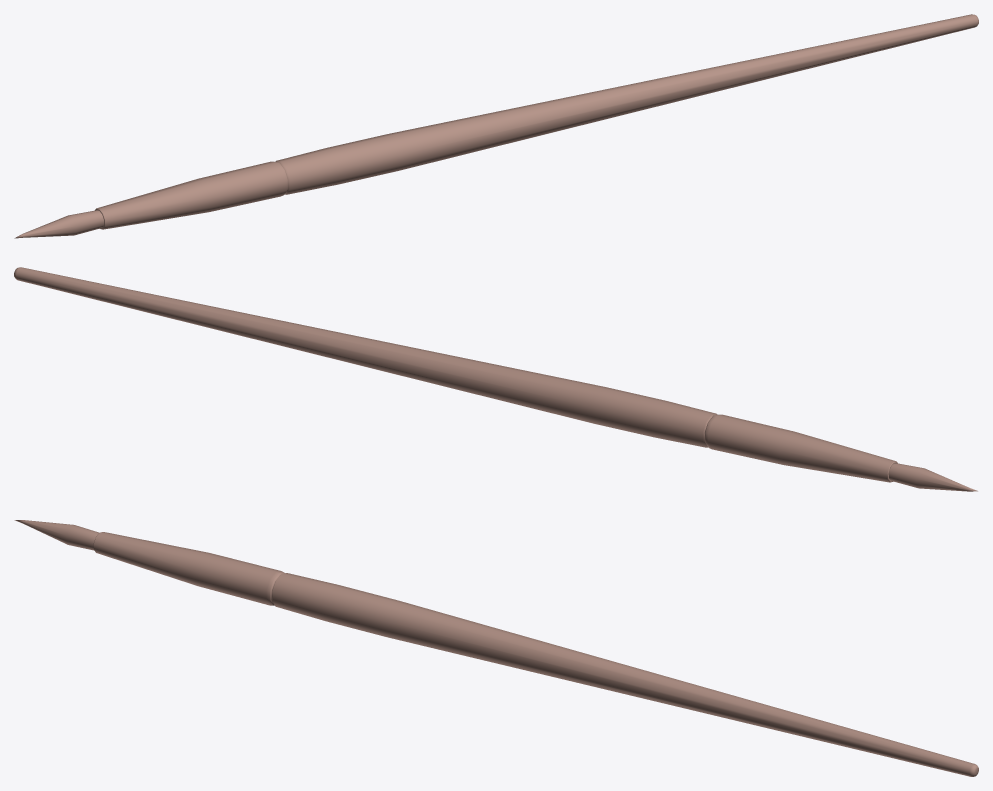
File: brush4.fbx
3 views of the same model, one above another, from view 1: azimuth 30°, elevation 25°; view 2: azimuth 150°, elevation 25°; view 3: azimuth 330°, elevation 25° (orthographic).
Visible parts, largest first — view 1: pCylinder8; view 2: pCylinder8; view 3: pCylinder8.
Part boxes in pixels (x1,y1,x2,y2): pCylinder8: [14, 14, 978, 238]; pCylinder8: [14, 267, 977, 491]; pCylinder8: [14, 520, 978, 776].
Bounding box in the file's own units: 0.3857 × 0.0138 × 0.0133.
